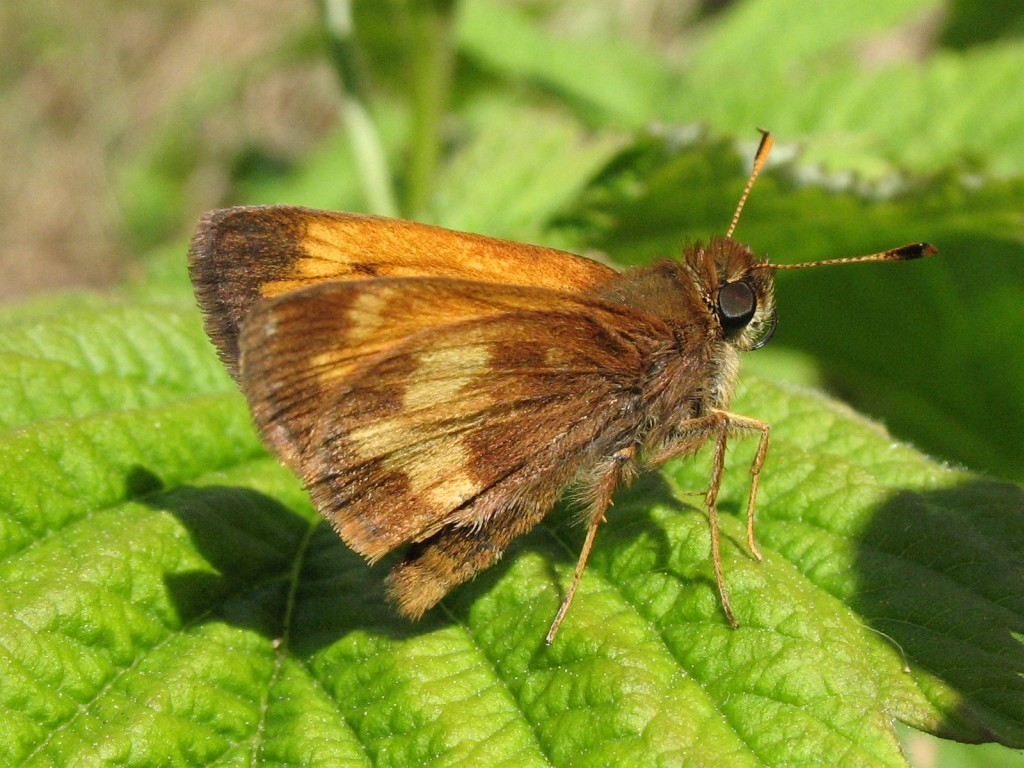Butterfly: (197, 159, 927, 635)
